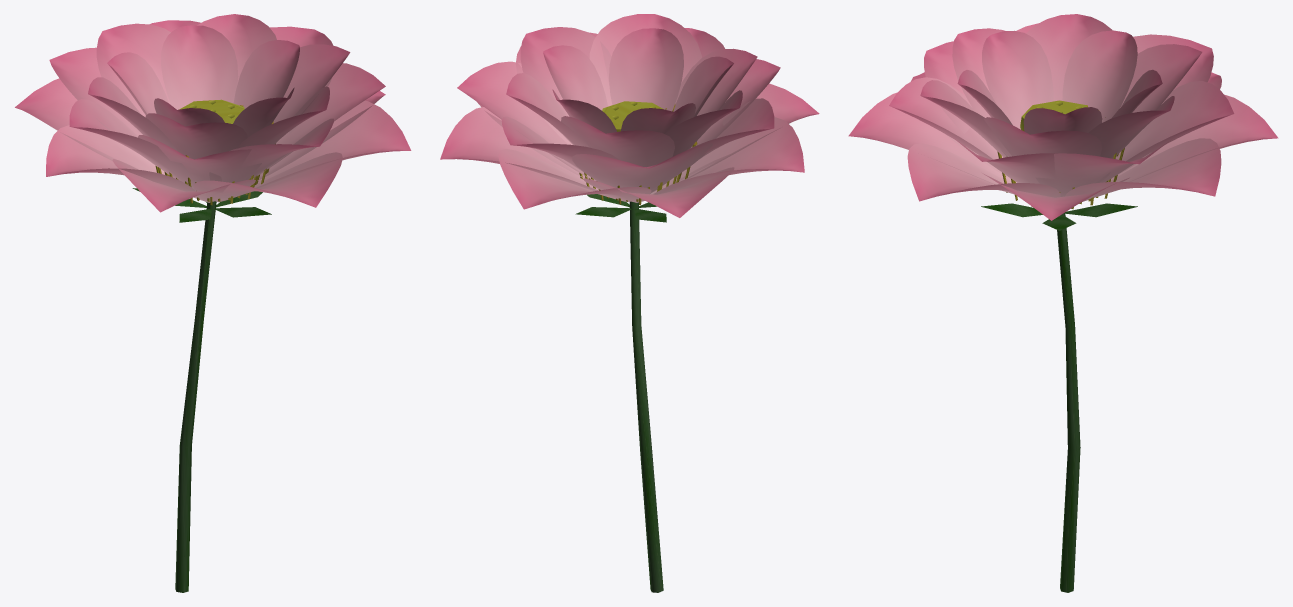
Rendered from lotus_flower_lod0.glb.
The picture shows the model from 3 angles, left to right: view 1: azimuth 30°, elevation 25°; view 2: azimuth 150°, elevation 25°; view 3: azimuth 270°, elevation 25°; orthographic projection. The views are drawn at different scales.
Parts seen in each view (by area): view 1: lotus_flower_L0__petal, lotus_flower_L0__leaf, lotus_flower_L0__seed; view 2: lotus_flower_L0__petal, lotus_flower_L0__leaf, lotus_flower_L0__seed; view 3: lotus_flower_L0__petal, lotus_flower_L0__leaf, lotus_flower_L0__seed.
Boxes of the visible parts, x1=… form: lotus_flower_L0__petal: x1=15, y1=14, x2=411, y2=212; lotus_flower_L0__leaf: x1=132, y1=188, x2=271, y2=592; lotus_flower_L0__seed: x1=155, y1=99, x2=275, y2=205; lotus_flower_L0__petal: x1=440, y1=14, x2=819, y2=217; lotus_flower_L0__leaf: x1=575, y1=194, x2=666, y2=592; lotus_flower_L0__seed: x1=579, y1=101, x2=697, y2=205; lotus_flower_L0__petal: x1=848, y1=14, x2=1278, y2=220; lotus_flower_L0__leaf: x1=981, y1=203, x2=1137, y2=592; lotus_flower_L0__seed: x1=997, y1=100, x2=1124, y2=209.
Bounding box in the file's own units: 0.8233 × 1.21 × 0.8764.
Materials: 3 (3 with a texture image).
